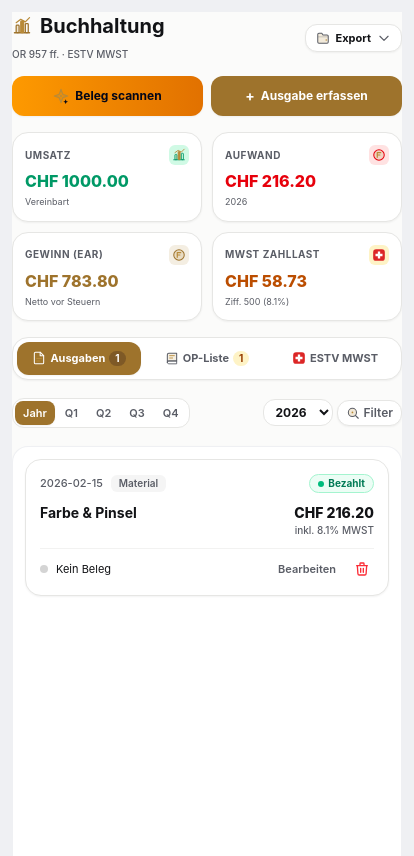
BuchhaltungView › switches to OP-Liste and displays Swiss Delkredere calculation (Art. 960e OR)
Click the button with test id "tab-op-liste".
click(207, 358)  # box [145, 342, 269, 374]
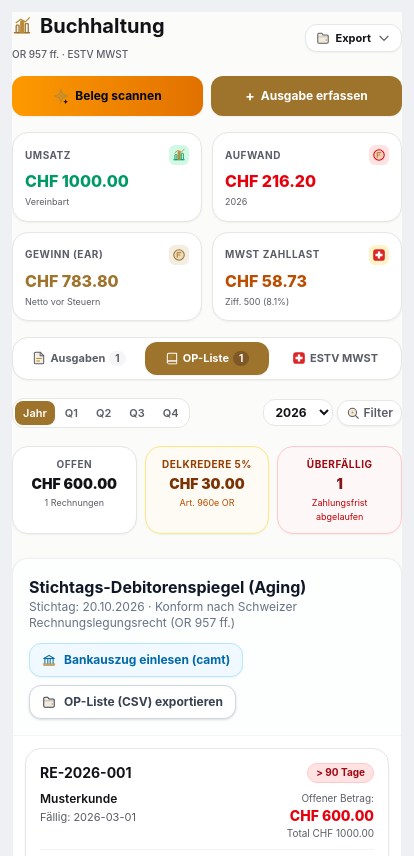
Result: the heading "Stichtags-Debitorenspiegel (Aging)" is shown at [29, 577, 306, 597]
